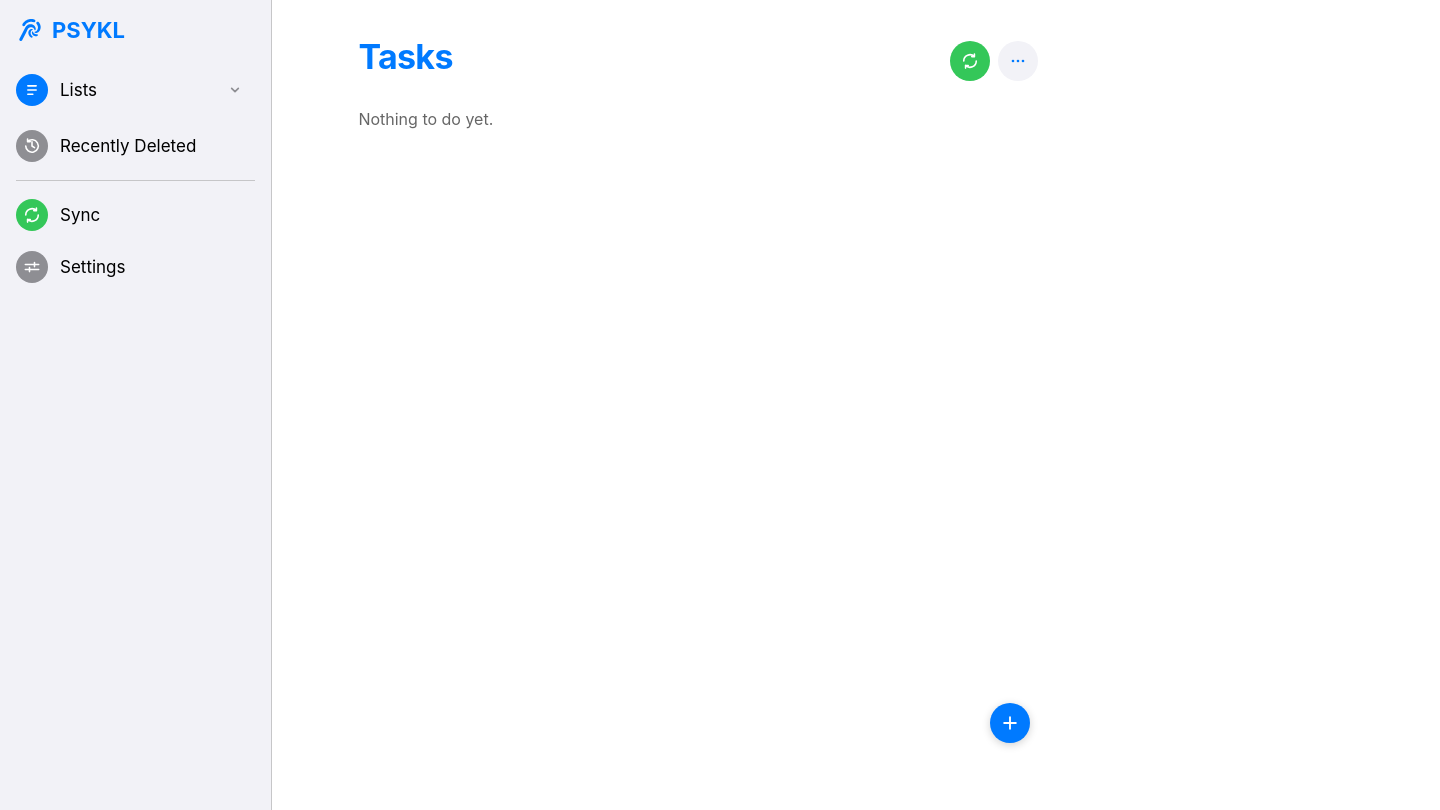
Test case: App header in selection mode (Unit) › hands the header over to leaving selection mode
Expected: the button named "Sync clear" is shown, [950, 40, 990, 80]
Click the button named "List options" at (1018, 60), box [998, 40, 1038, 80]
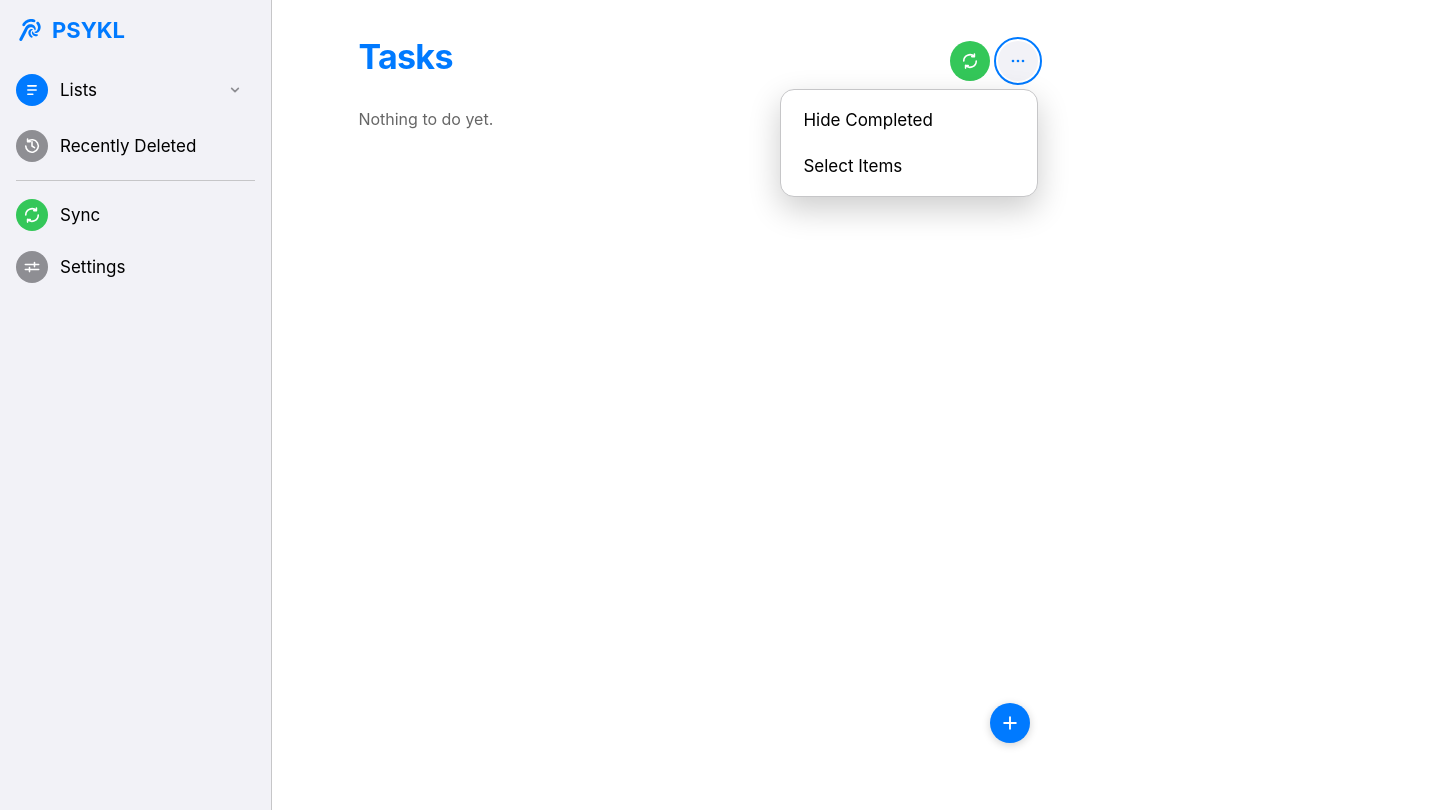
Click the menu item "Select Items" at (909, 166), box [789, 144, 1029, 188]
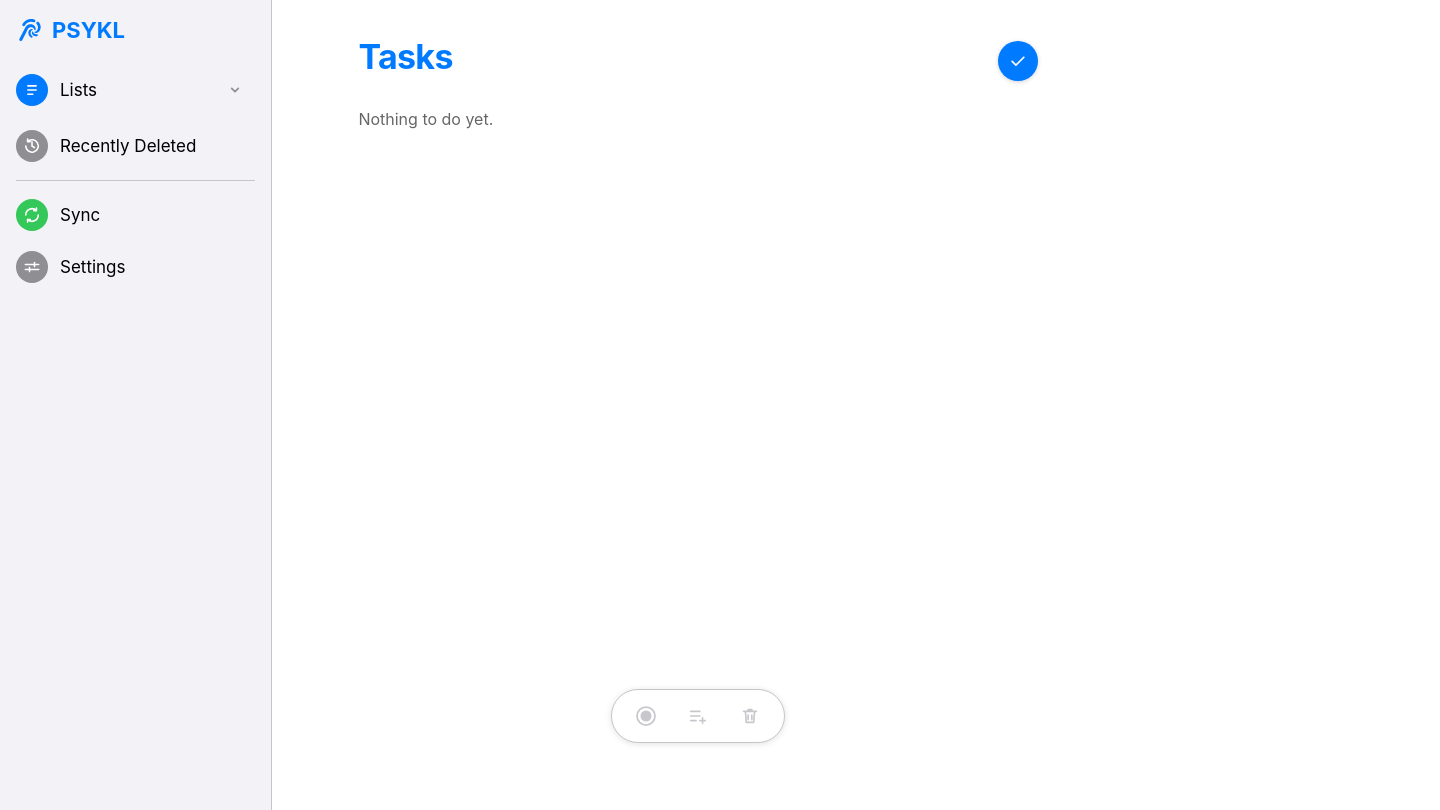
Now the button named "Done selecting" is shown, box [998, 40, 1038, 80]
